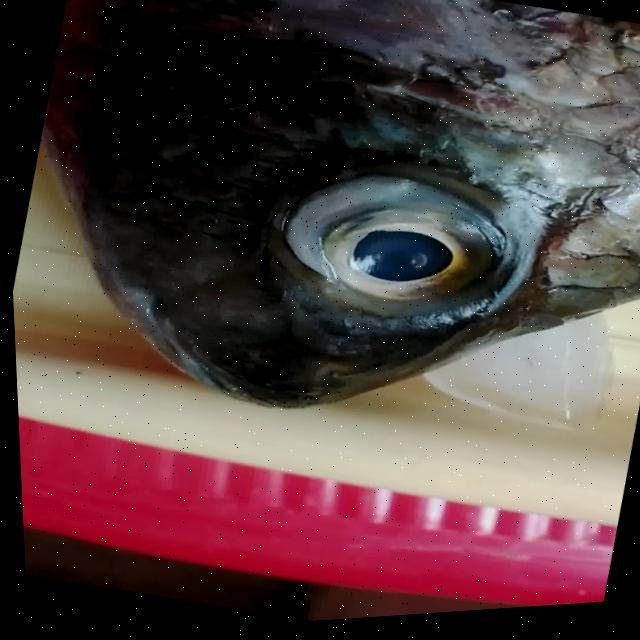Fresh: (204, 120, 549, 396)
